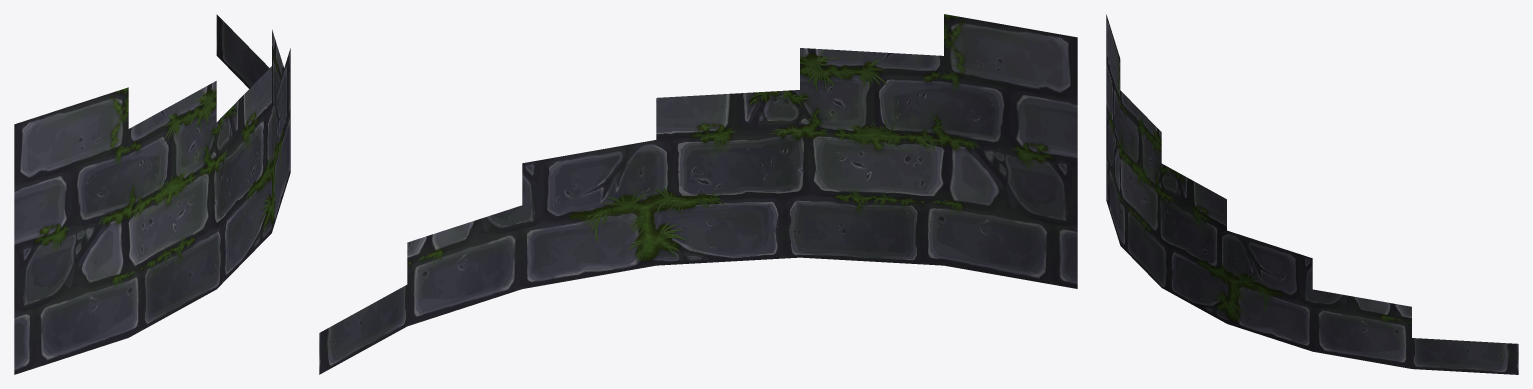
Rendered from MOD_Stairs_01_med_NW_wall.fbx.
The picture shows the model from 3 angles, left to right: view 1: azimuth 30°, elevation 25°; view 2: azimuth 150°, elevation 25°; view 3: azimuth 270°, elevation 25°; orthographic projection. The views are drawn at different scales.
Visible parts, largest first — view 1: MOD_Stairs_01_med_NW_wall; view 2: MOD_Stairs_01_med_NW_wall; view 3: MOD_Stairs_01_med_NW_wall.
Part boxes in pixels (<box>): MOD_Stairs_01_med_NW_wall: <box>14,14,290,374</box>; MOD_Stairs_01_med_NW_wall: <box>319,14,1077,374</box>; MOD_Stairs_01_med_NW_wall: <box>1106,14,1518,374</box>.
Size of what is drawn, in the model's own units: 400 by 200 by 400.
